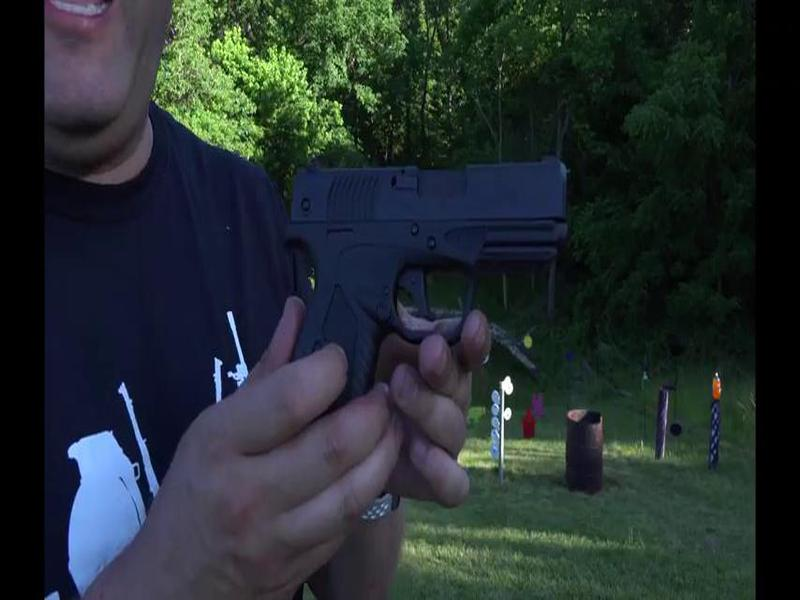Pistola: (249, 140, 578, 408)
